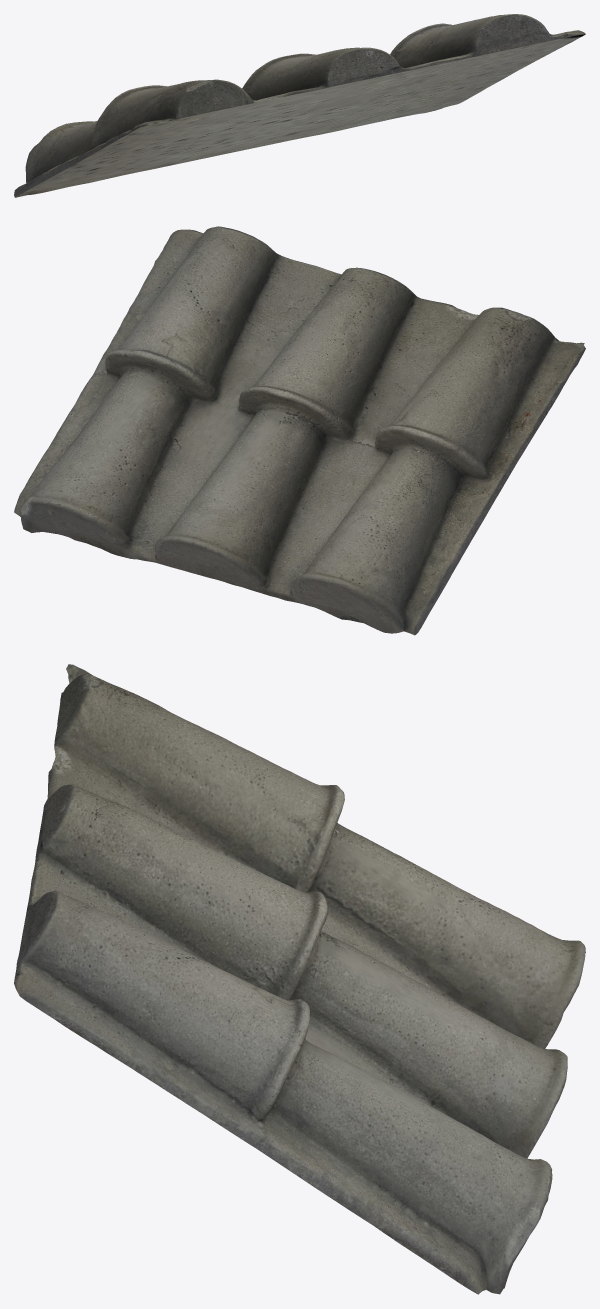
File: Retopo_3DModel_mesh.070.glb
3 views of the same model, one above another, from view 1: azimuth 30°, elevation 25°; view 2: azimuth 150°, elevation 25°; view 3: azimuth 270°, elevation 25° (orthographic). The views are drawn at different scales.
Visible parts, largest first — view 1: Retopo_3DModel_mesh.070; view 2: Retopo_3DModel_mesh.070; view 3: Retopo_3DModel_mesh.070.
Boxes of the visible parts, bbox=[...] form: Retopo_3DModel_mesh.070: bbox=[14, 14, 585, 197]; Retopo_3DModel_mesh.070: bbox=[14, 226, 585, 635]; Retopo_3DModel_mesh.070: bbox=[14, 664, 585, 1294].
Size of the model in its own units: 5.05 by 2.33 by 3.54.
Materials: 1 (1 with a texture image).
